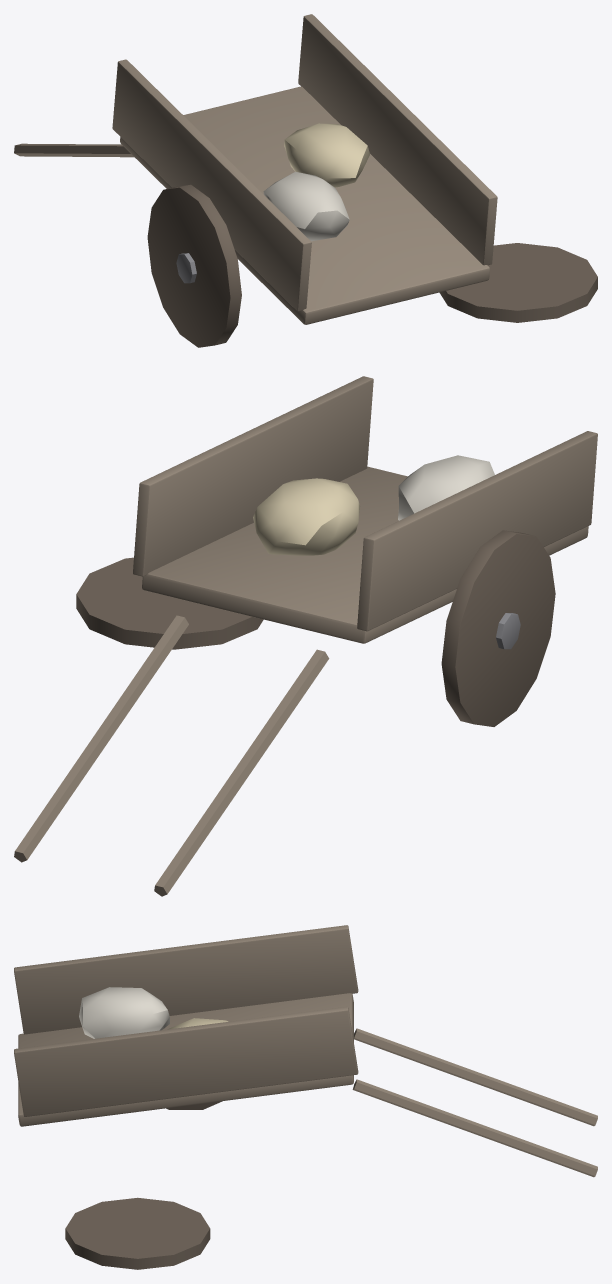
Rendered from cart_broken.gltf.
The picture shows the model from 3 angles, top to bottom: view 1: azimuth 30°, elevation 25°; view 2: azimuth 150°, elevation 25°; view 3: azimuth 270°, elevation 25°; orthographic projection. The views are drawn at different scales.
Parts seen in each view (by area): view 1: Body; view 2: Body; view 3: Body.
Boxes of the visible parts, box(x1,y1,x2,y2) form: Body: box(14, 14, 597, 347); Body: box(14, 376, 597, 896); Body: box(14, 925, 597, 1269).
Size of the model in its own units: 3.24 by 1.74 by 4.84.
